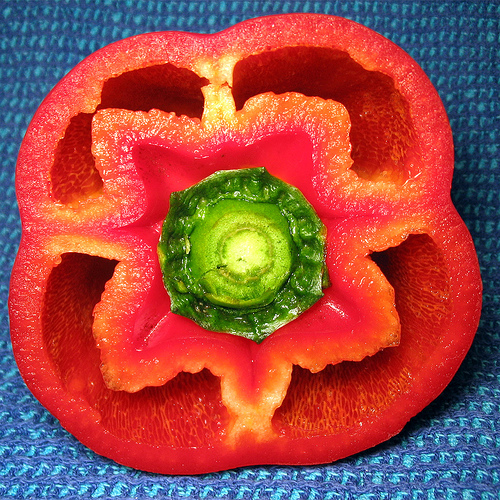capsicum: (5, 10, 482, 478)
